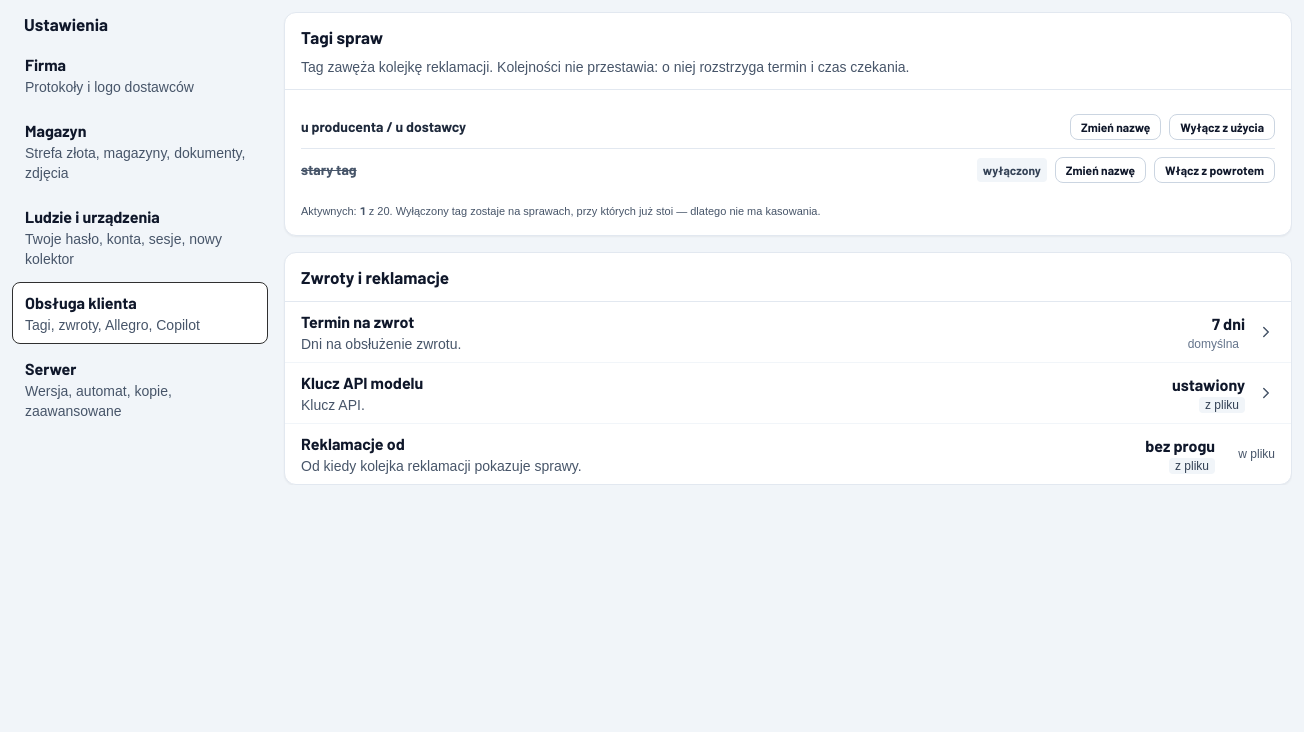
Test: Ustawienia w panelu › zmiana ustawienia: jeden klucz w jednym żądaniu
Click the button "Termin na zwrot Dni na obsłużenie zwrotu. 7 dni domyślna".
click(358, 322)  # box [285,302,1291,362]
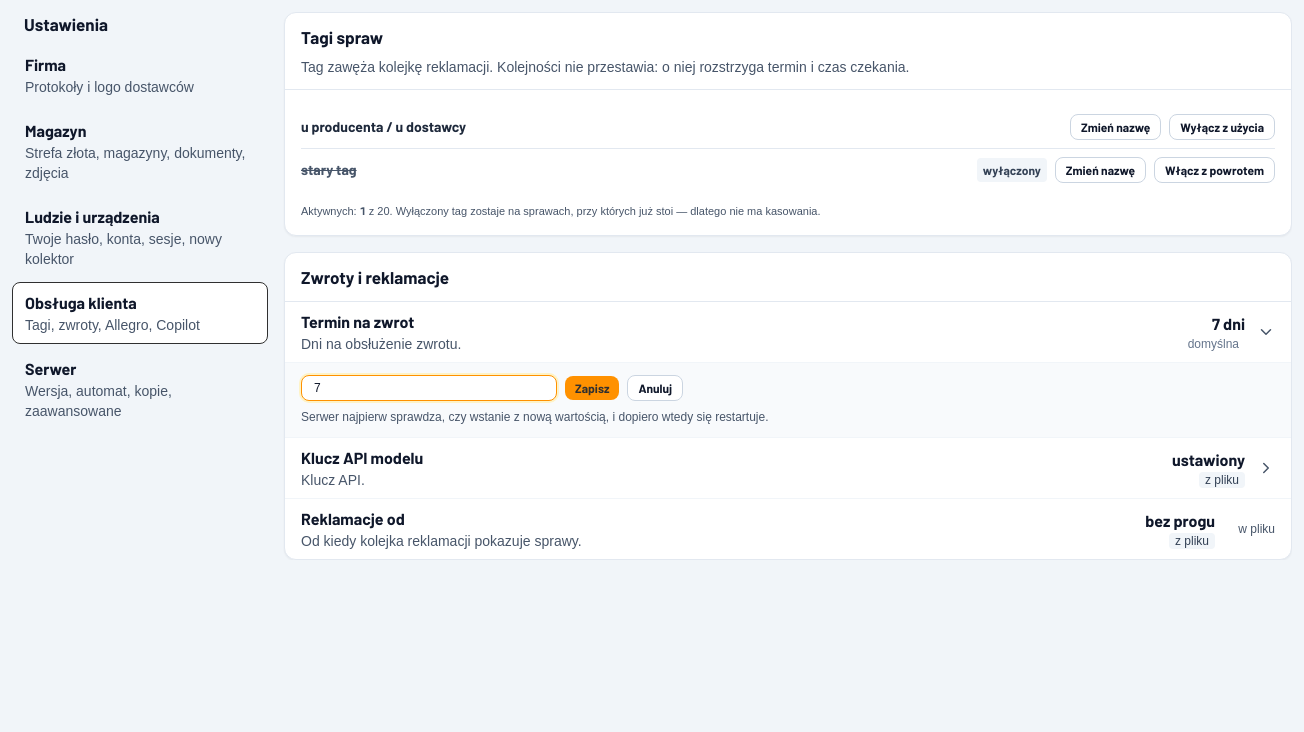
Check: the field named "Termin na zwrot" holds "7"
Replace the text in the field named "Termin na zwrot" with "10" at point(429, 388), box [301,375,557,401]
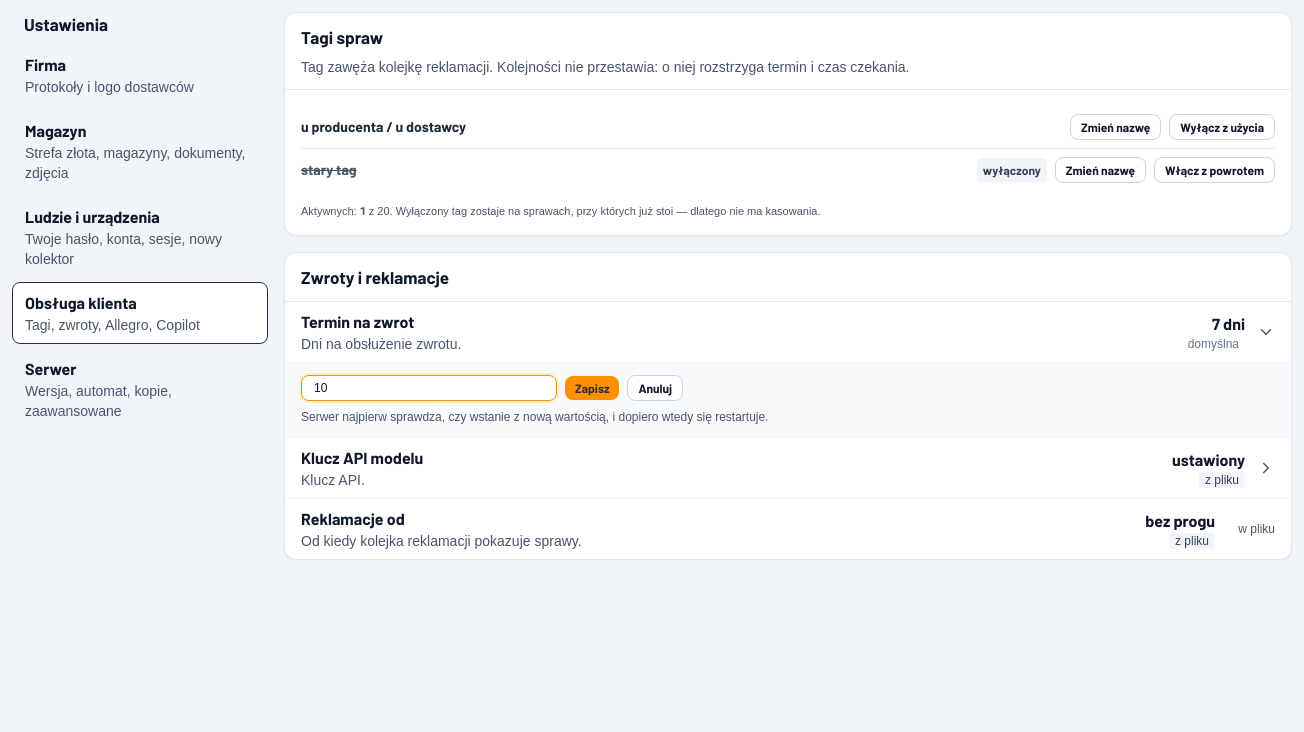
Click the button "Zapisz".
click(592, 388)  # box [565,376,620,400]
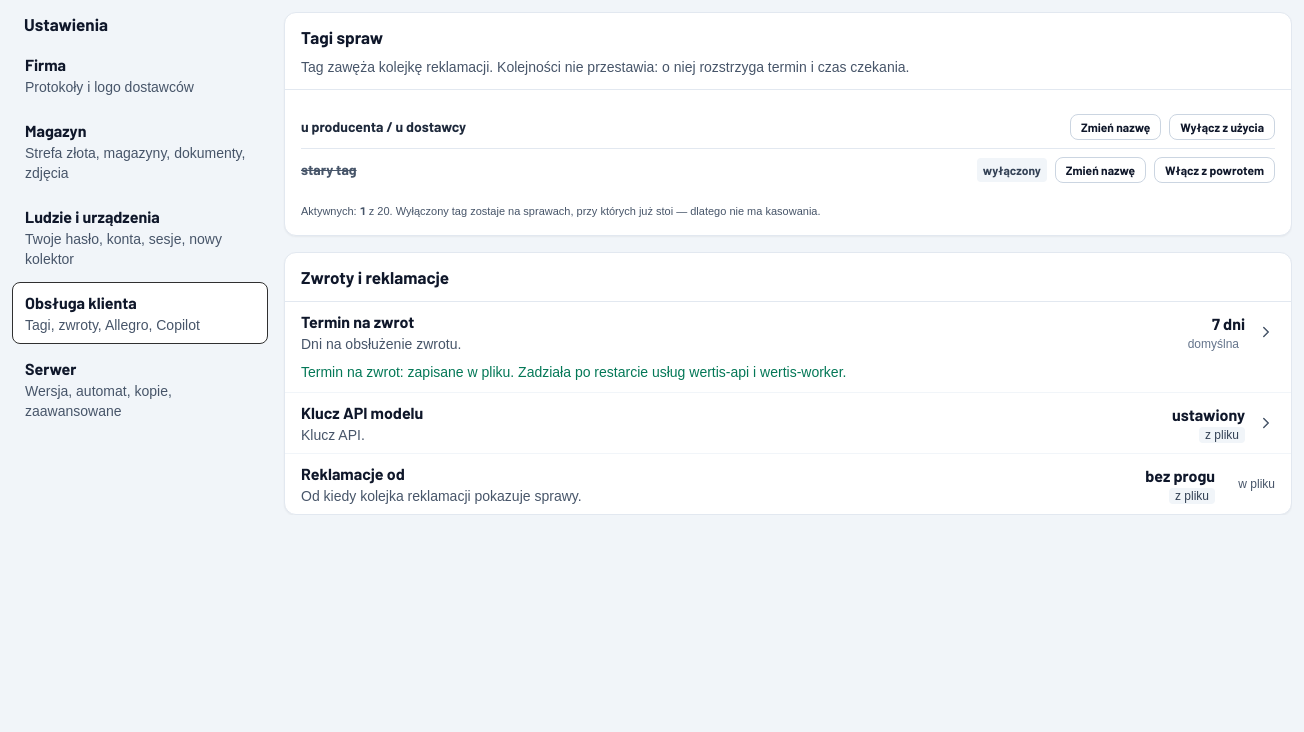
Check: the text "Zadziała po restarcie usług" is shown, box [301,364,846,380]
